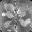people: (19, 18, 31, 27), (4, 3, 15, 12), (2, 11, 14, 19), (17, 7, 26, 17), (4, 21, 12, 28)
